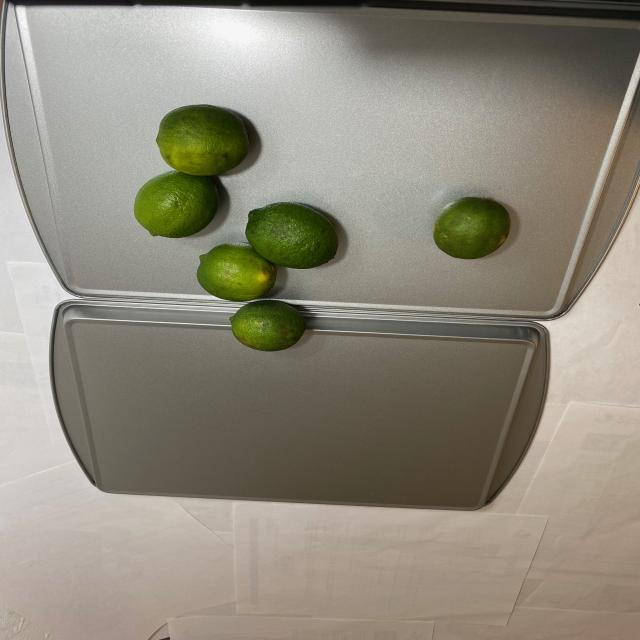lemon: (134, 96, 350, 357), (432, 192, 515, 262)
